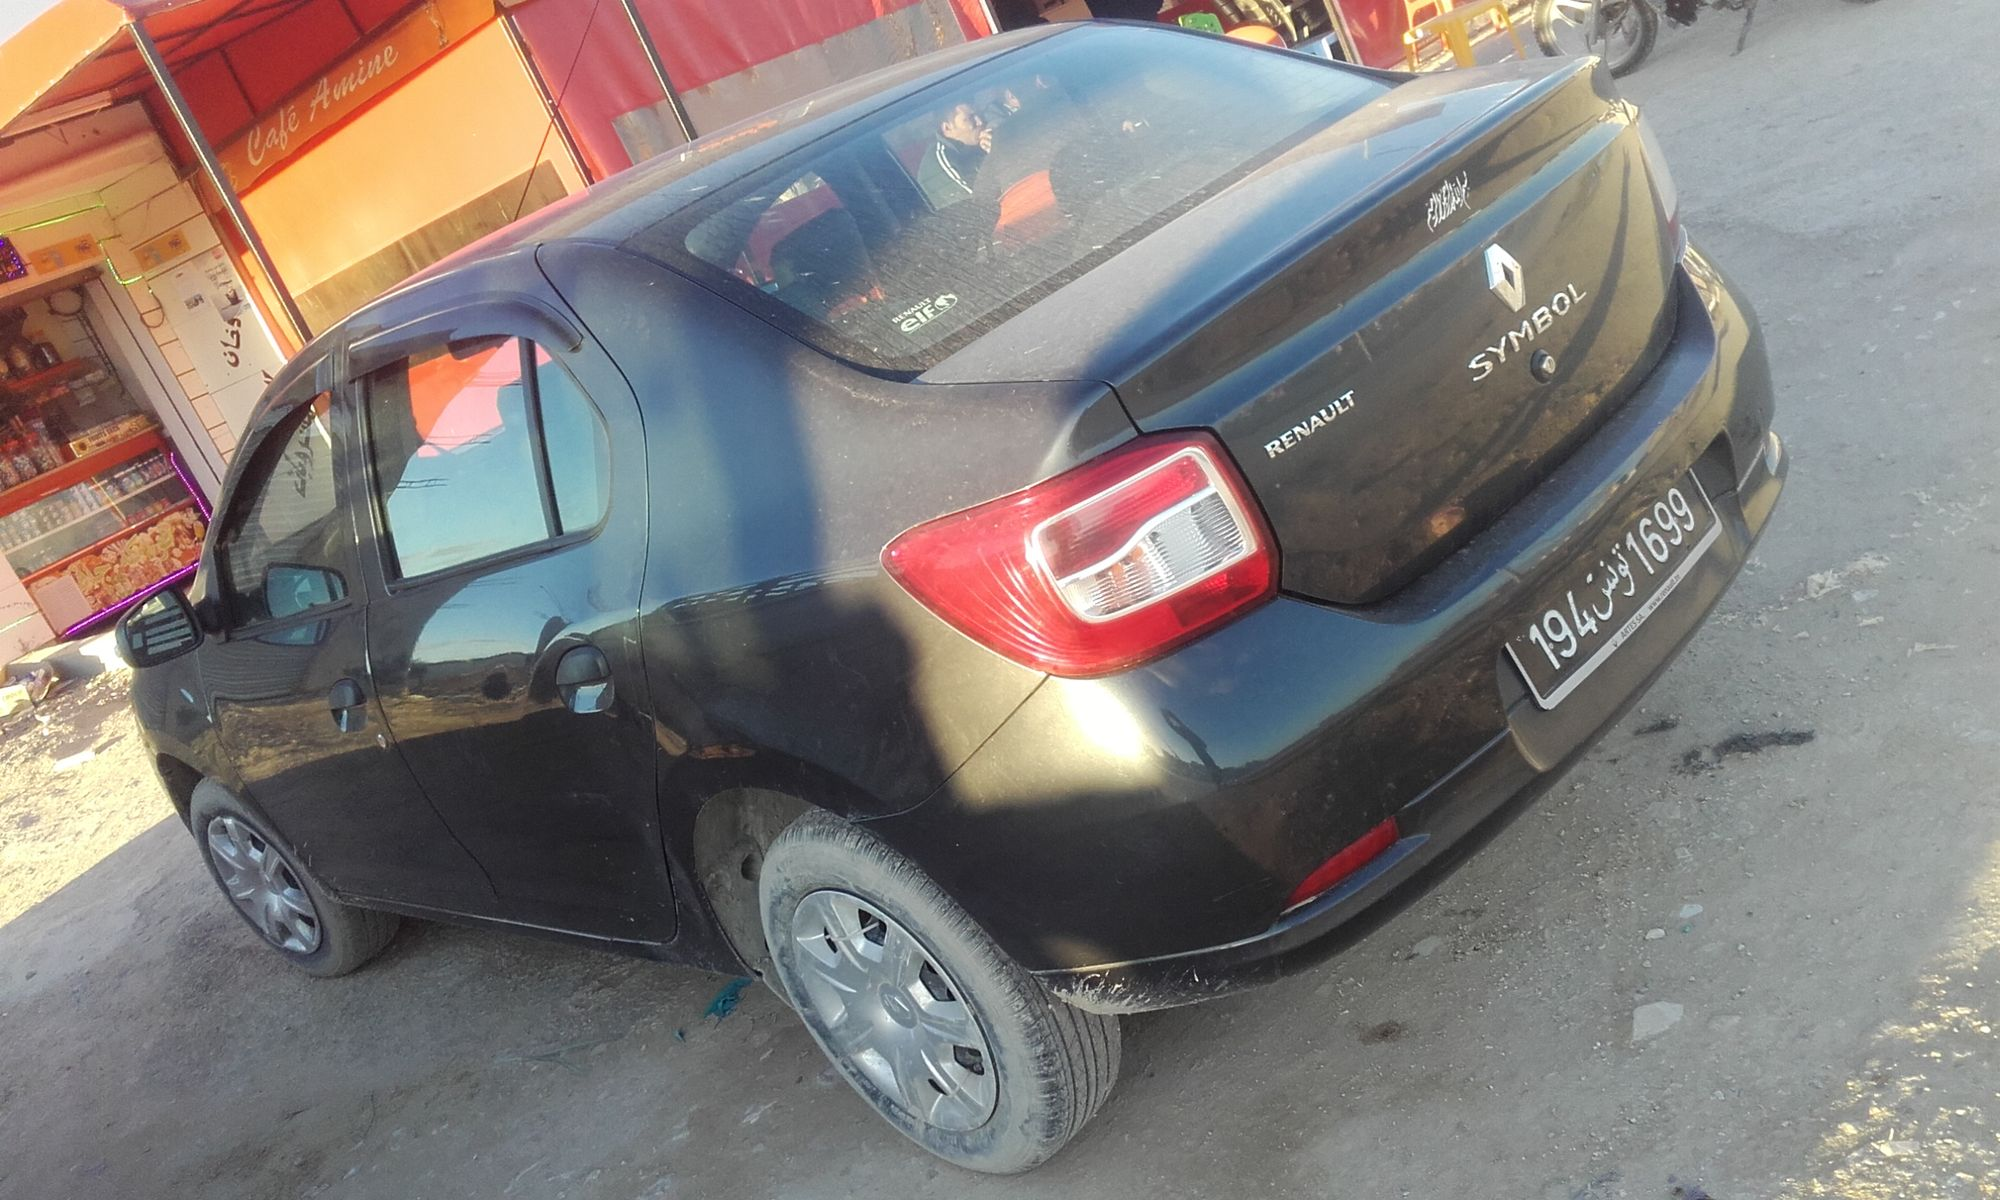LP: (1518, 463, 1719, 700)
